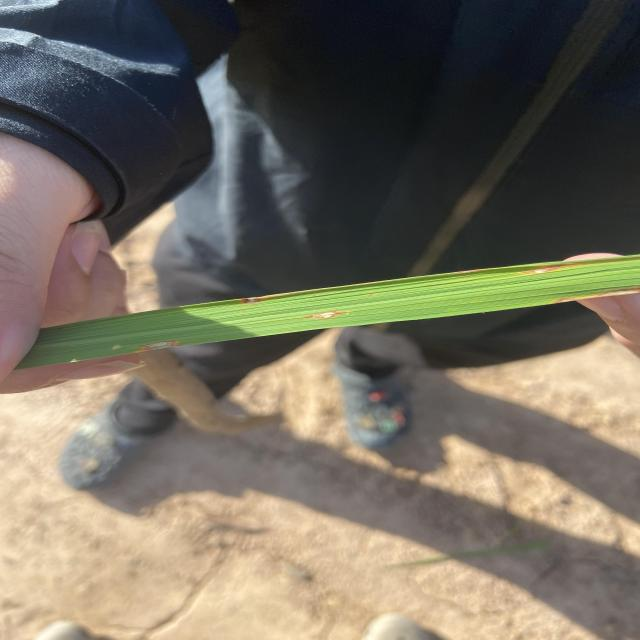Dao on: (524, 264, 582, 274), (140, 341, 177, 352), (588, 291, 640, 298), (307, 312, 345, 319), (554, 298, 585, 303), (242, 297, 263, 304), (111, 344, 122, 349), (461, 271, 471, 273)
